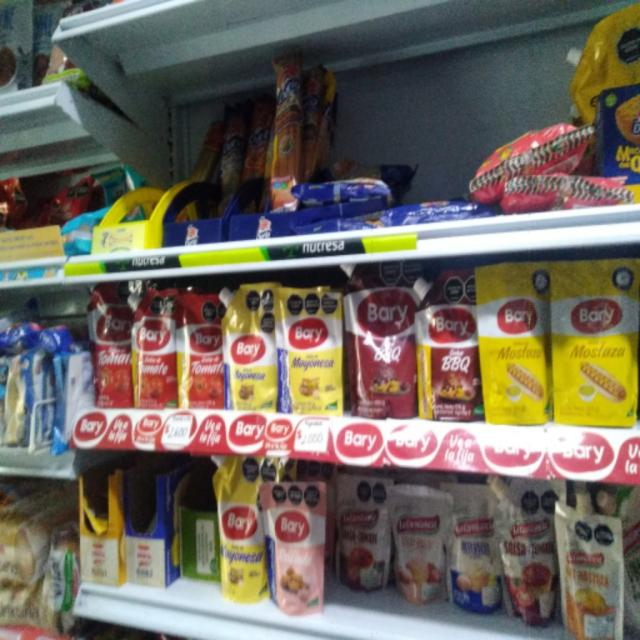BBQ: (344, 265, 420, 413), (414, 280, 481, 421)
Mayonesa: (278, 284, 348, 417), (214, 453, 270, 601), (223, 284, 279, 412)
Precio: (294, 424, 330, 453), (162, 422, 196, 447)
Rosada: (261, 481, 329, 614)
Tomate: (175, 284, 229, 410), (129, 288, 178, 412), (90, 290, 135, 402)
moztasa: (552, 265, 640, 435), (479, 264, 555, 422)
